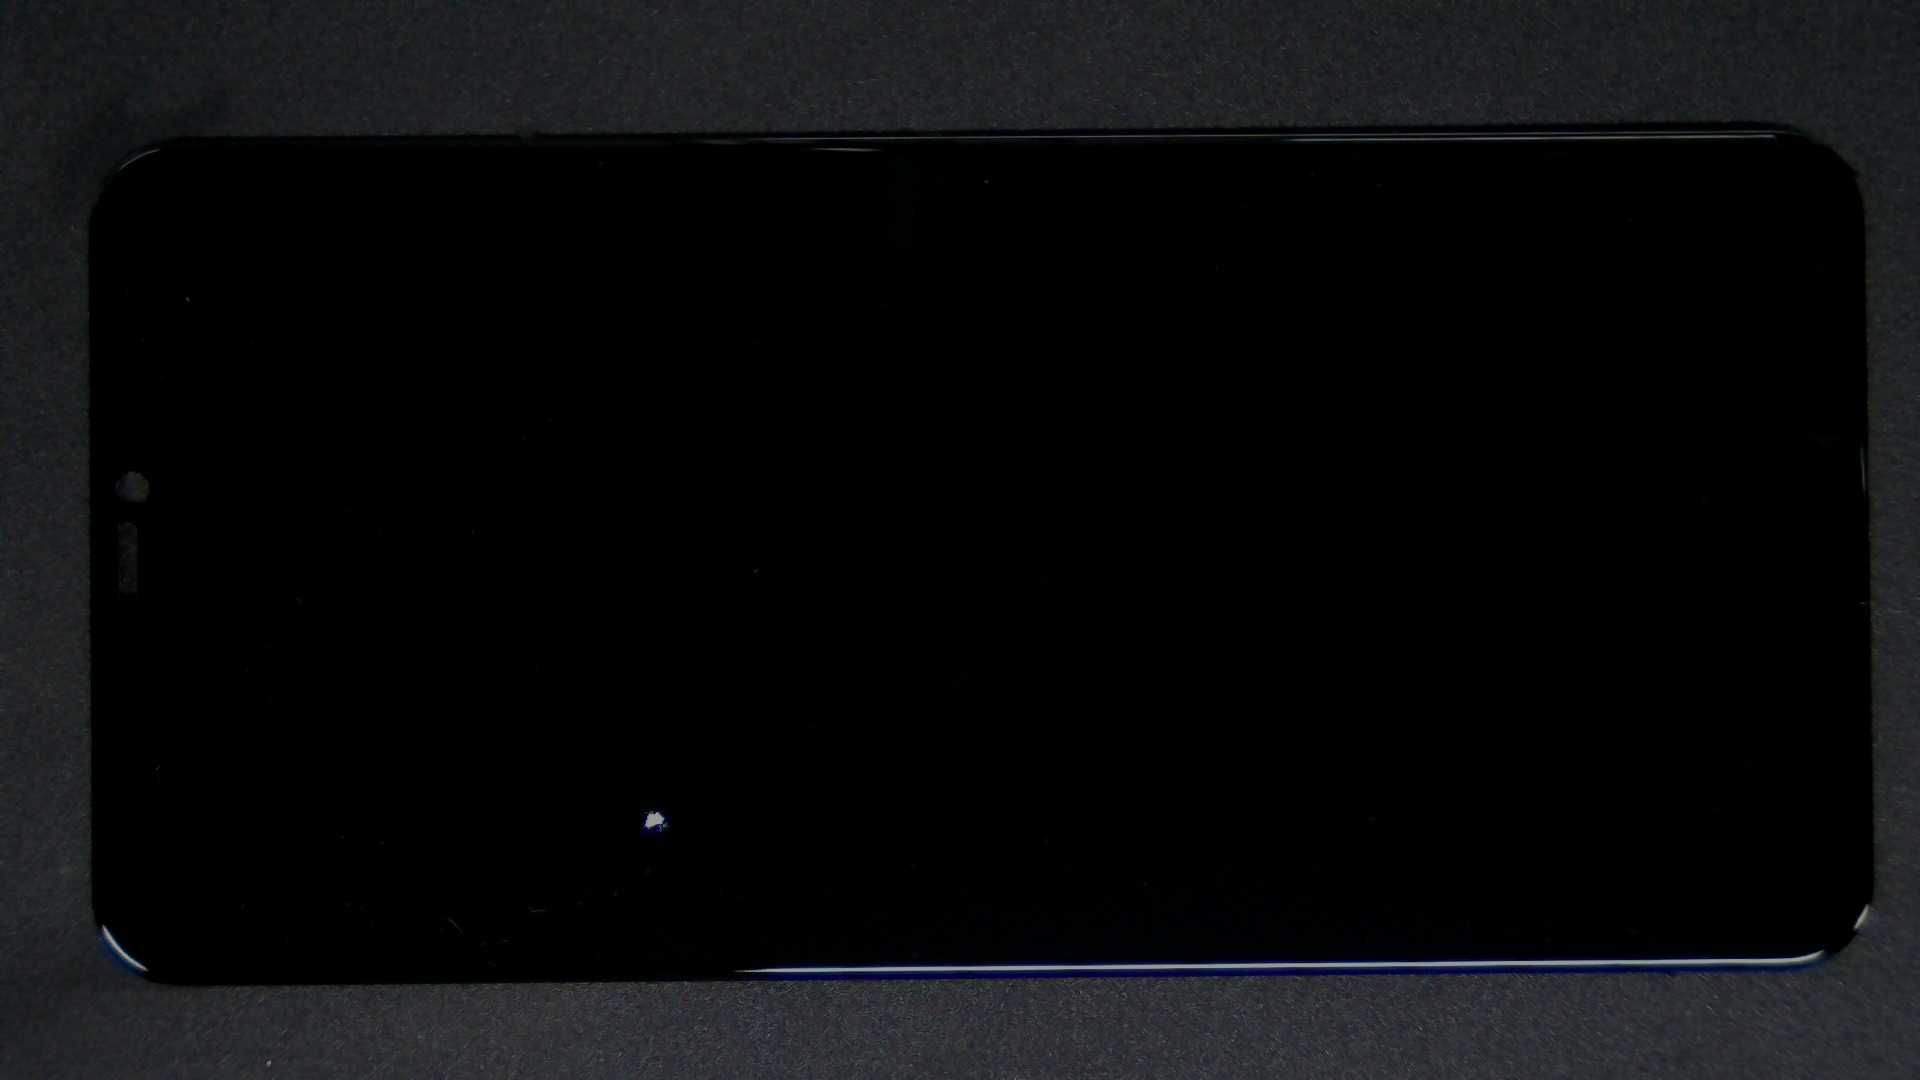oil: (330, 404, 988, 1080)
